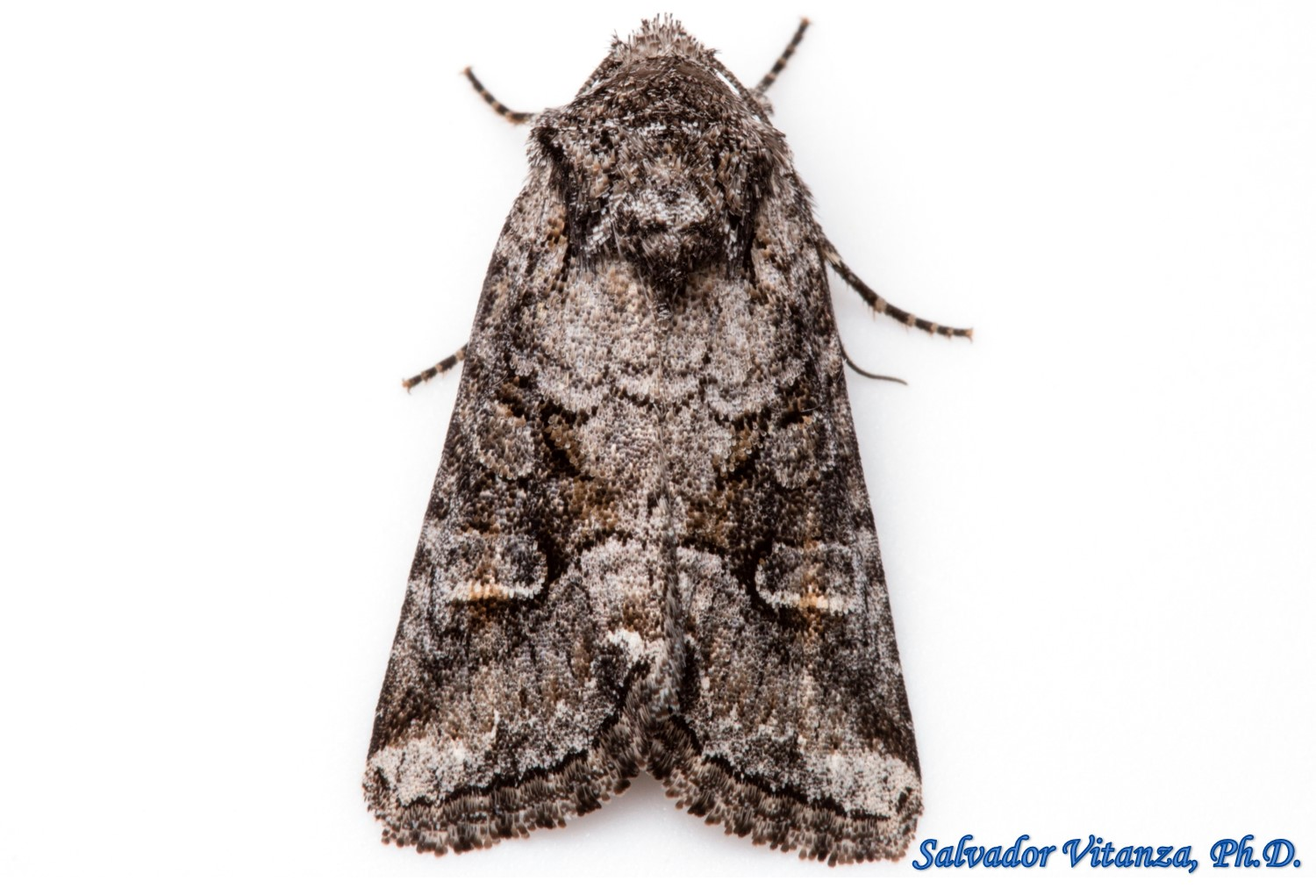Noctuidae: (352, 1, 975, 871)
